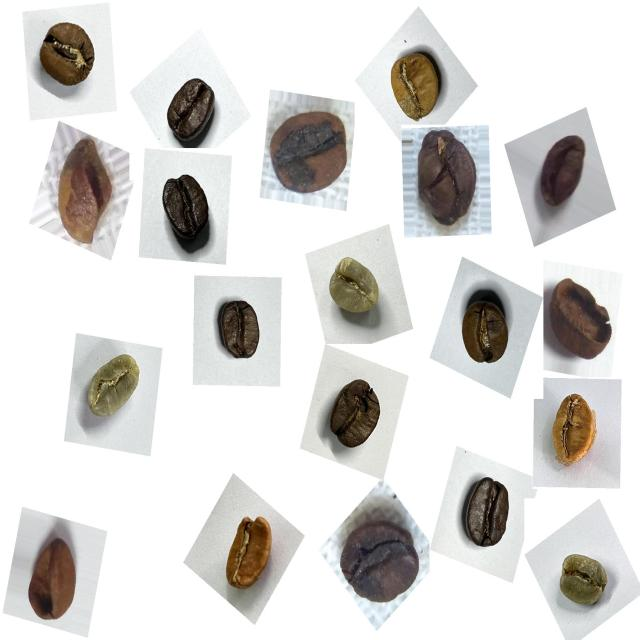bad: (331, 503, 427, 616), (263, 96, 356, 207), (42, 131, 121, 256), (406, 124, 486, 234), (540, 271, 622, 373), (19, 523, 93, 634), (528, 122, 594, 218)
dark: (454, 465, 523, 559), (150, 165, 221, 251), (158, 65, 226, 147), (209, 285, 275, 368)
green: (73, 343, 152, 434), (316, 244, 391, 333), (550, 545, 618, 621)
light: (216, 506, 286, 603), (379, 41, 450, 131), (542, 387, 608, 478)
medium: (319, 367, 392, 462), (30, 12, 107, 100), (452, 291, 522, 378)
